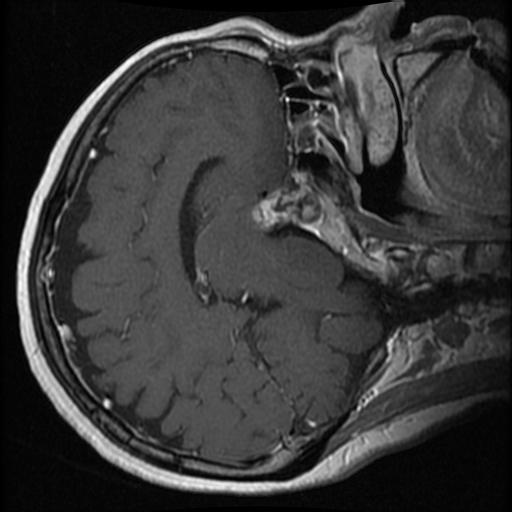pituitary tumour: (253, 188, 314, 229)
